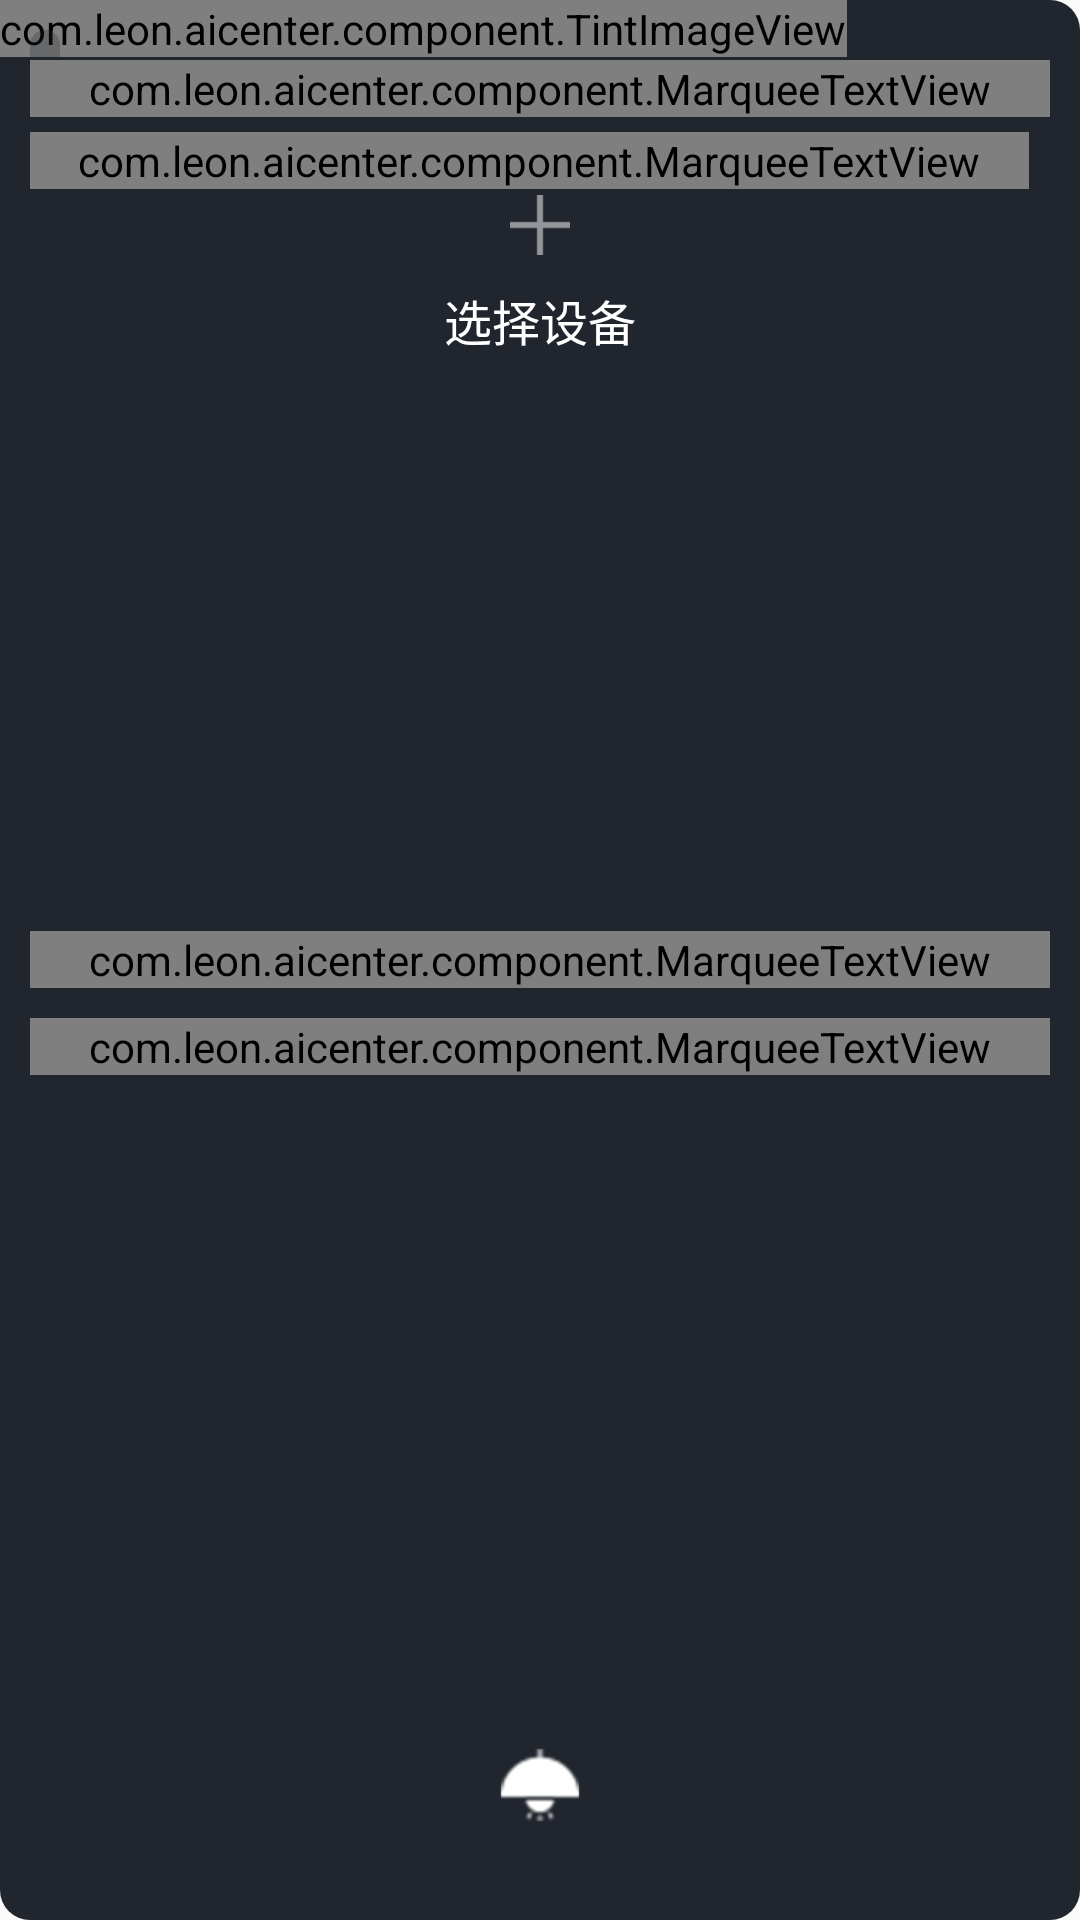

Where icons sit on this 1080px×1920px app screen, as (x1, y1, x2, y2):
设备: (500, 1749, 580, 1821)
